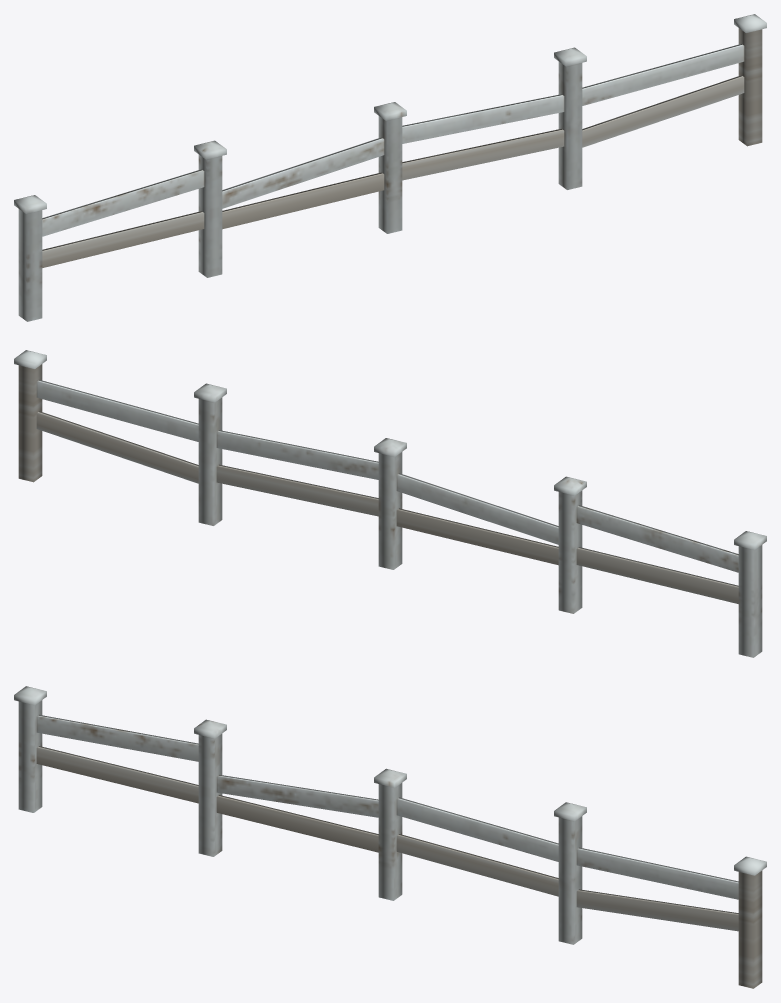
The model's file is objects_un_t01fence03.gltf.
3 renders of one model, top to bottom at view 1: azimuth 30°, elevation 25°; view 2: azimuth 150°, elevation 25°; view 3: azimuth 330°, elevation 25°, orthographic.
Visible parts, largest first — view 1: fence03_mesh2_lod0_shape:objects_un_t01fence03_01; view 2: fence03_mesh2_lod0_shape:objects_un_t01fence03_01; view 3: fence03_mesh2_lod0_shape:objects_un_t01fence03_01.
Boxes of the visible parts, box(x1,y1,x2,y2) form: fence03_mesh2_lod0_shape:objects_un_t01fence03_01: box(14, 14, 766, 321); fence03_mesh2_lod0_shape:objects_un_t01fence03_01: box(14, 350, 766, 657); fence03_mesh2_lod0_shape:objects_un_t01fence03_01: box(14, 686, 766, 988).
Size of what is drawn, in the model's own units: 7.41 by 1.3 by 0.21.
1 material, 1 textured.
